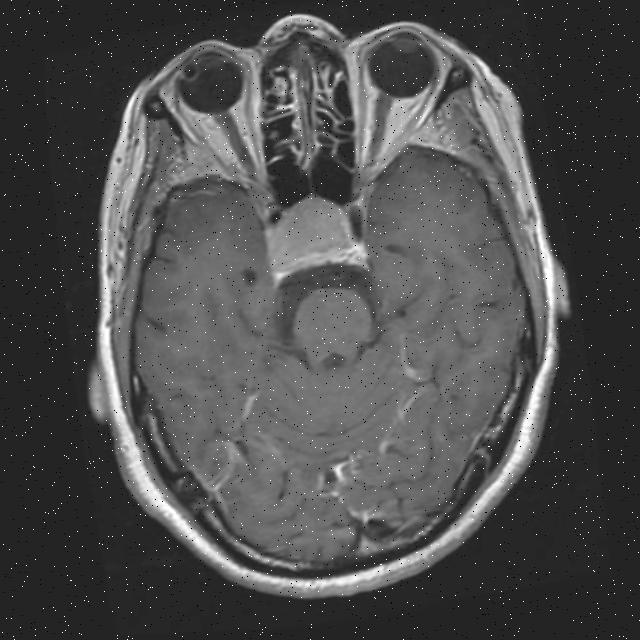Pituitary: (259, 186, 354, 274)
